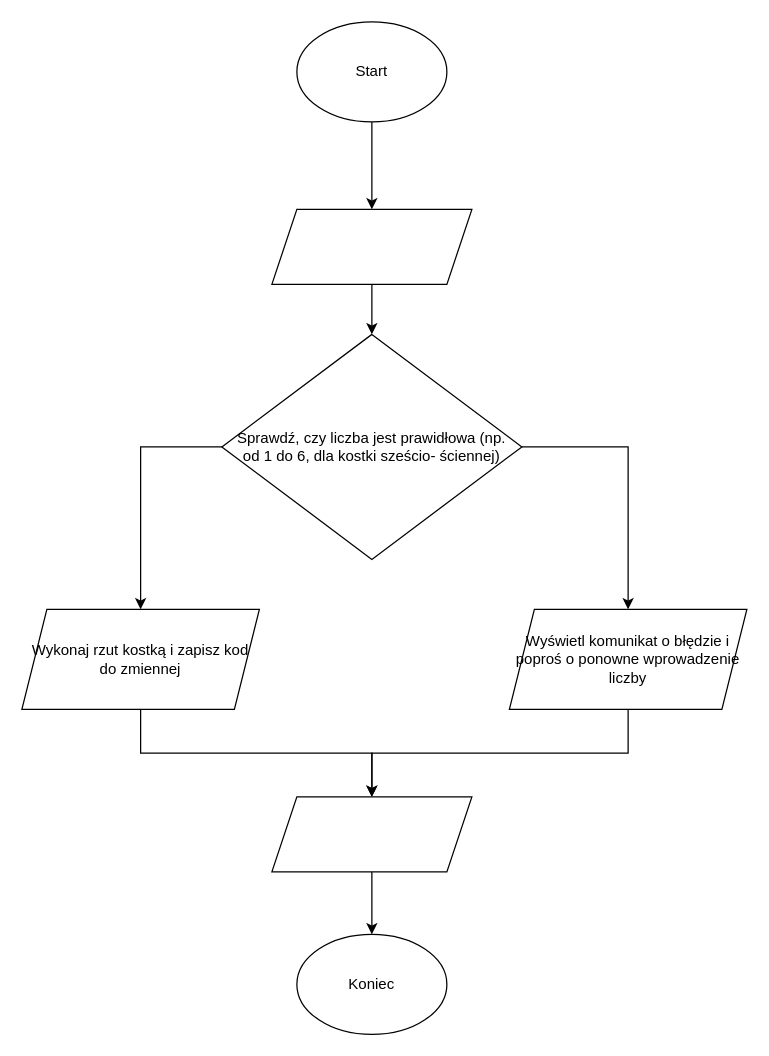
The diagram is 769 pixels wide and 1056 high, and some of its shapes have lost their labels. Here are the shapes that lost their labels. From the top down, the centre of each, then its label:
At (x=371, y=246): "Wprowadź liczbę oczek i kostek przez użytkownika".
At (x=371, y=834): "Wyswietl wynik rzutu kostką".
